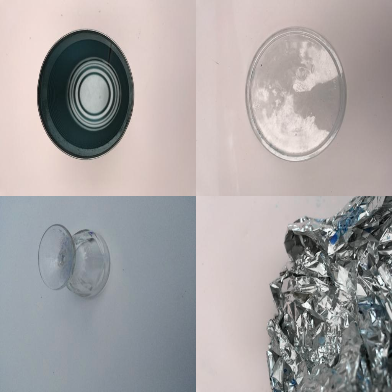glass: (38, 224, 111, 299)
metal: (266, 198, 392, 392), (245, 25, 348, 161), (37, 29, 135, 159)
